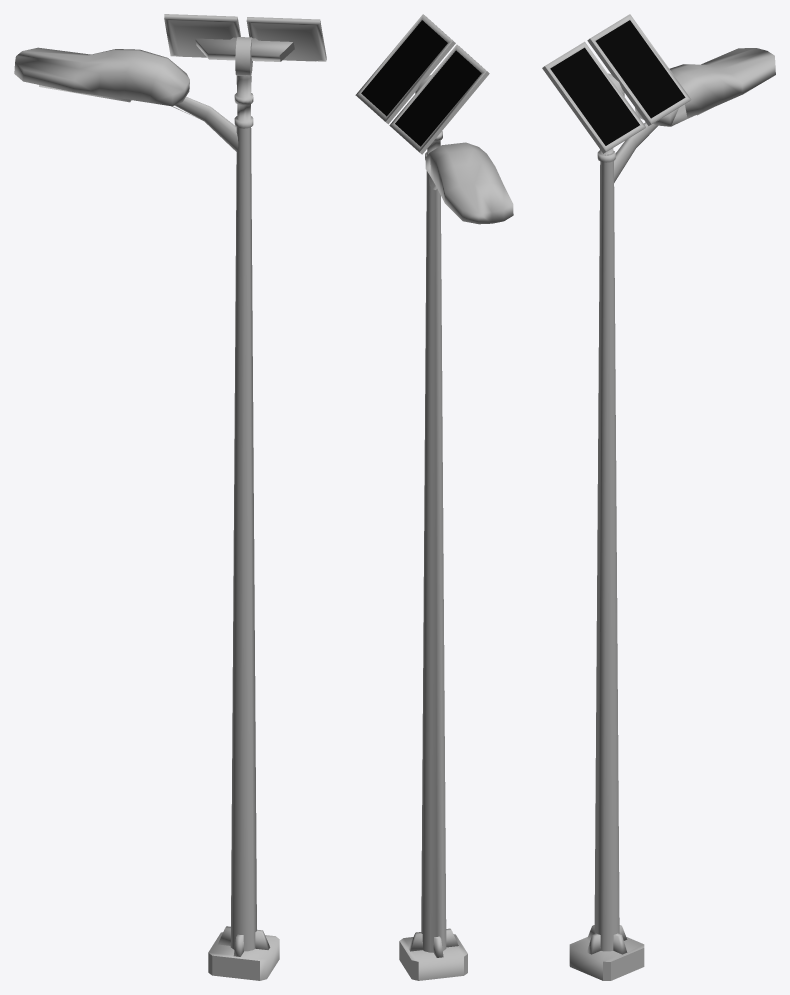
File: nc_prop_lamp_solar_02.fbx
The picture shows the model from 3 angles, left to right: view 1: azimuth 30°, elevation 25°; view 2: azimuth 150°, elevation 25°; view 3: azimuth 270°, elevation 25°; orthographic projection. The views are drawn at different scales.
Parts seen in each view (by area): view 1: nc_prop_lamp_solar_02_LOD0; view 2: nc_prop_lamp_solar_02_LOD0; view 3: nc_prop_lamp_solar_02_LOD0.
Part boxes in pixels (x1,y1,x2,y2): nc_prop_lamp_solar_02_LOD0: (14,14,326,980); nc_prop_lamp_solar_02_LOD0: (355,14,513,980); nc_prop_lamp_solar_02_LOD0: (542,14,775,980).
Size of what is drawn, in the model's own units: 0.9113 by 3.57 by 0.8224.
Materials: 1 (1 with a texture image).
